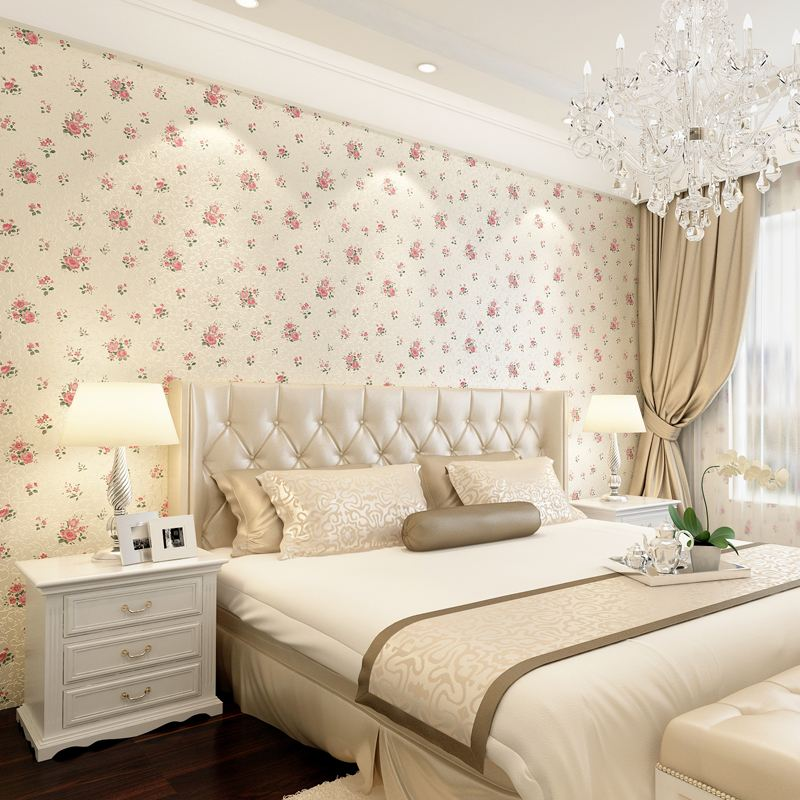床: (217, 512, 800, 795)
枕头: (218, 446, 583, 560)
灯: (560, 12, 800, 244), (56, 366, 178, 561), (574, 387, 651, 500), (411, 59, 442, 79)
